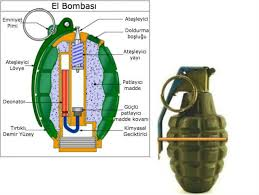e1: (156, 66, 229, 193)
